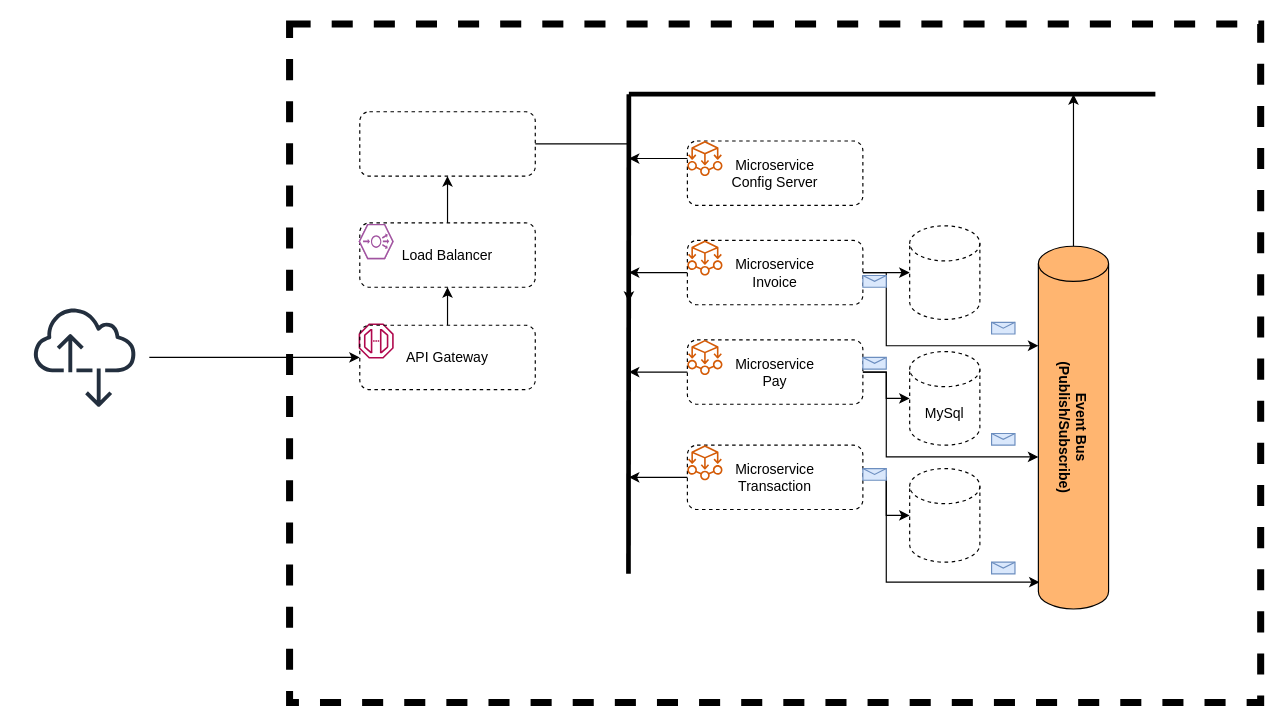
Some shapes in this 1285 by 725 pixel diagram are drawn without their labels. The centre of each missing label's shape, as x and y in pixels:
"Internet / API Clients" belongs at [84,357].
"MongoDB" belongs at [944,514].
"Postgresql" belongs at [944,272].
"Registry and Discovery" belongs at [447,143].
